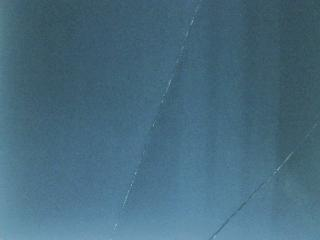crack: (108, 0, 204, 240), (212, 120, 319, 240)
